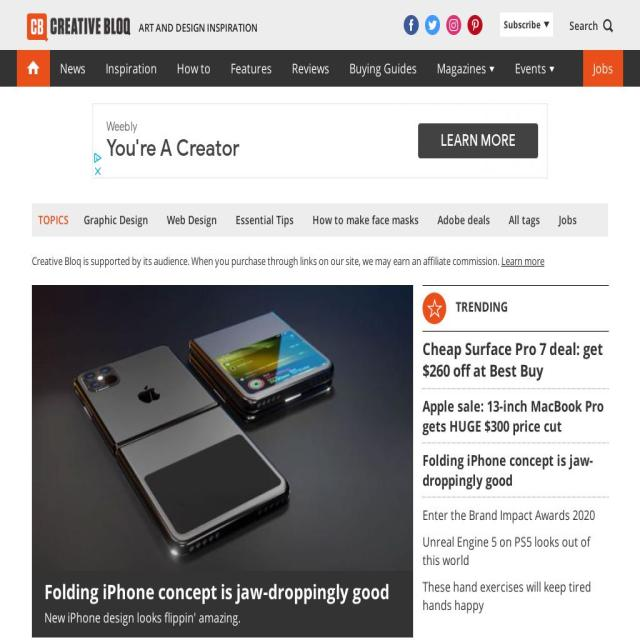button: (32, 285, 413, 637), (422, 332, 608, 388), (422, 389, 608, 443), (422, 443, 608, 497), (422, 524, 608, 569), (422, 569, 608, 614), (422, 498, 608, 524), (304, 203, 428, 237), (339, 50, 427, 87), (27, 11, 131, 38), (75, 203, 157, 237), (96, 50, 166, 87), (227, 203, 302, 237), (429, 203, 499, 237), (158, 203, 226, 237), (220, 50, 282, 87), (282, 50, 339, 87), (167, 50, 221, 87), (50, 50, 96, 87), (500, 203, 549, 237), (583, 50, 623, 87), (550, 203, 586, 237)
heading: (422, 338, 608, 382), (422, 396, 608, 436), (422, 450, 608, 490), (422, 533, 608, 569), (422, 578, 608, 614), (422, 506, 608, 524), (456, 298, 508, 316)
iframe: (92, 104, 548, 178)
image: (32, 285, 413, 571), (27, 13, 131, 42), (17, 50, 50, 87), (446, 15, 462, 35), (425, 15, 440, 35), (404, 15, 418, 35), (468, 15, 482, 35), (544, 21, 549, 28)
link: (593, 50, 613, 87), (502, 254, 544, 268)
text: (44, 577, 390, 605), (32, 254, 501, 268), (44, 608, 400, 626), (569, 0, 603, 51), (138, 22, 258, 34), (38, 203, 75, 237), (437, 59, 486, 78), (515, 59, 546, 78), (504, 18, 540, 32)
